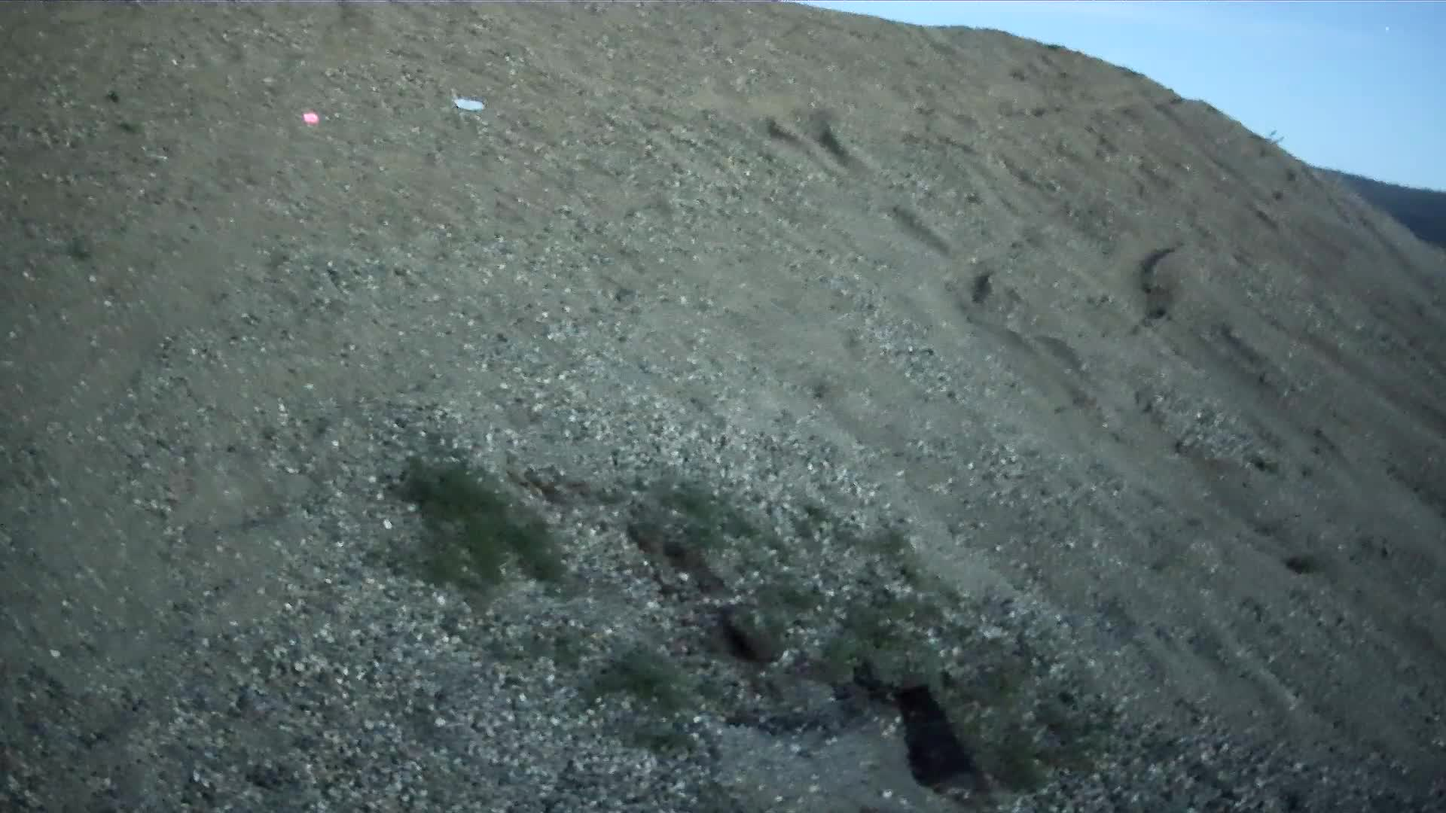Target: (454, 94, 482, 111)
